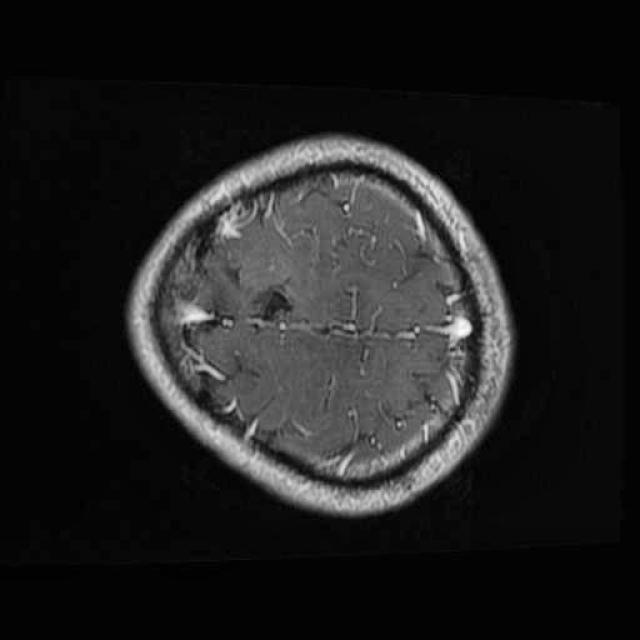Non-Tumor: (239, 272, 316, 345)
